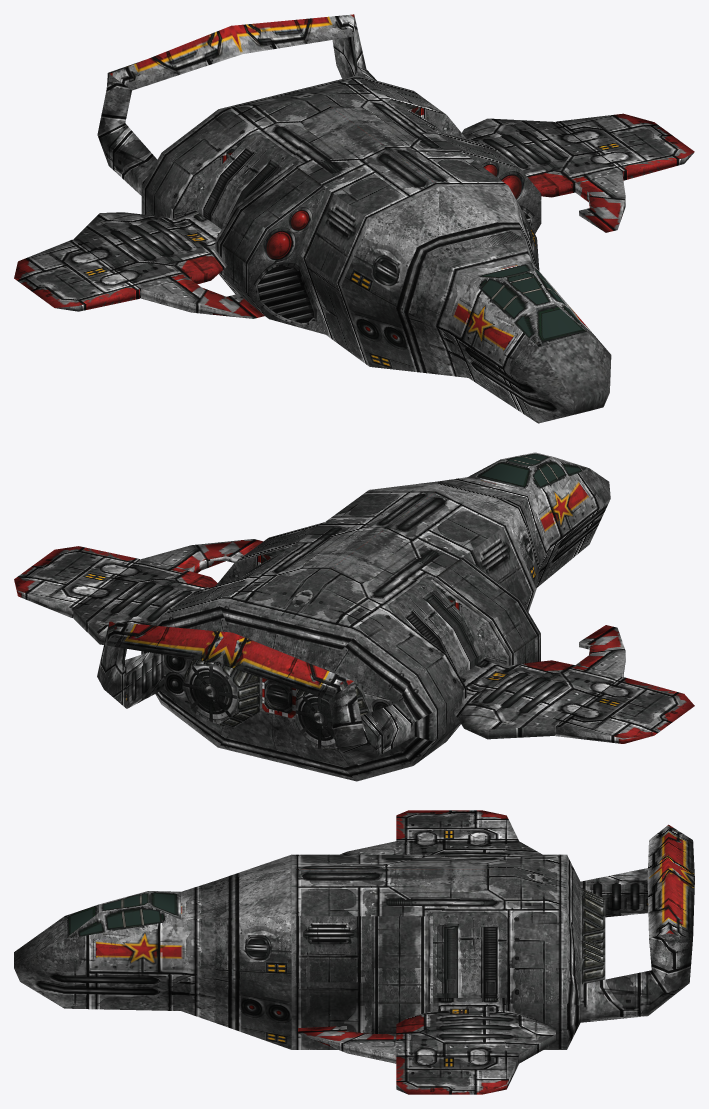
File: haidar.glb
3 views of the same model, one above another, from view 1: azimuth 30°, elevation 25°; view 2: azimuth 150°, elevation 25°; view 3: azimuth 270°, elevation 25° (orthographic). The views are drawn at different scales.
Parts seen in each view (by area): view 1: Han Body, Han Cockpit, Han Right Wing, Han Left Wing, Han Right Wing Tip, Han Left Wing Tip; view 2: Han Body, Han Right Wing, Han Cockpit, Han Left Wing, Han Right Wing Tip, Han Left Wing Tip; view 3: Han Body, Han Cockpit, Han Left Wing, Han Left Wing Tip, Han Right Wing Tip, Han Right Wing.
Boxes of the visible parts, x1,y1,x2,y2 form: Han Body: (97,14,541,374); Han Cockpit: (421,239,611,423); Han Right Wing: (73,210,264,318); Han Left Wing: (462,118,625,232); Han Right Wing Tip: (14,239,139,311); Han Left Wing Tip: (555,113,694,180); Han Body: (97,481,540,781); Han Right Wing: (454,625,625,739); Han Cockpit: (438,452,610,587); Han Left Wing: (73,539,263,644); Han Right Wing Tip: (555,677,694,743); Han Left Wing Tip: (14,546,139,617); Han Body: (215,824,694,1049); Han Cockpit: (14,881,215,1022); Han Left Wing: (298,998,555,1063); Han Left Wing Tip: (396,1055,518,1094); Han Right Wing Tip: (396,810,518,841); Han Right Wing: (340,841,542,854).
Size of the model in its own units: 1262 by 326 by 1278.
2 materials, 2 textured.
